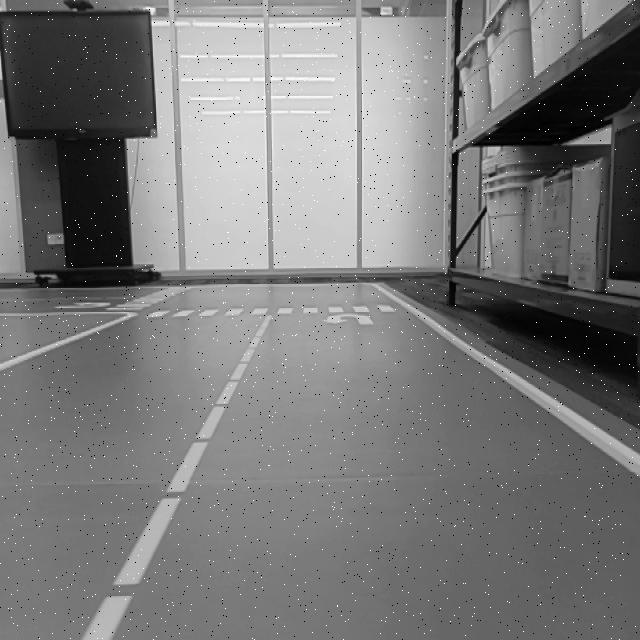left_lane: (82, 313, 271, 639)
right_lane: (377, 284, 640, 477), (0, 314, 128, 374)
